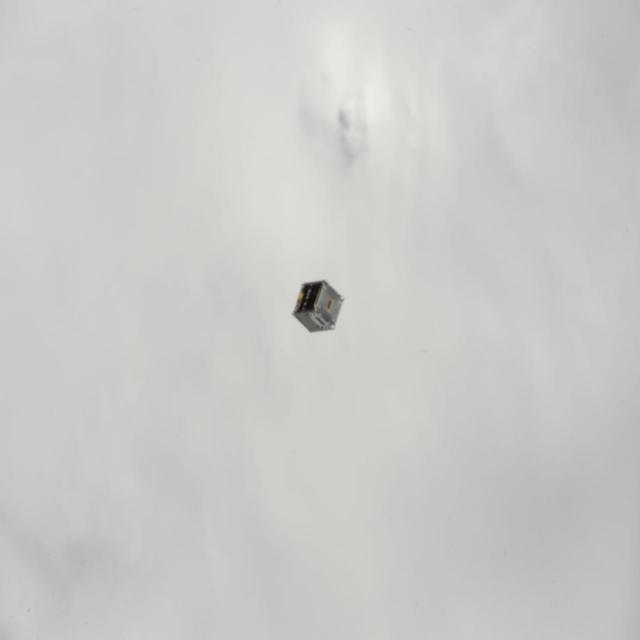satellite: (284, 272, 344, 344)
